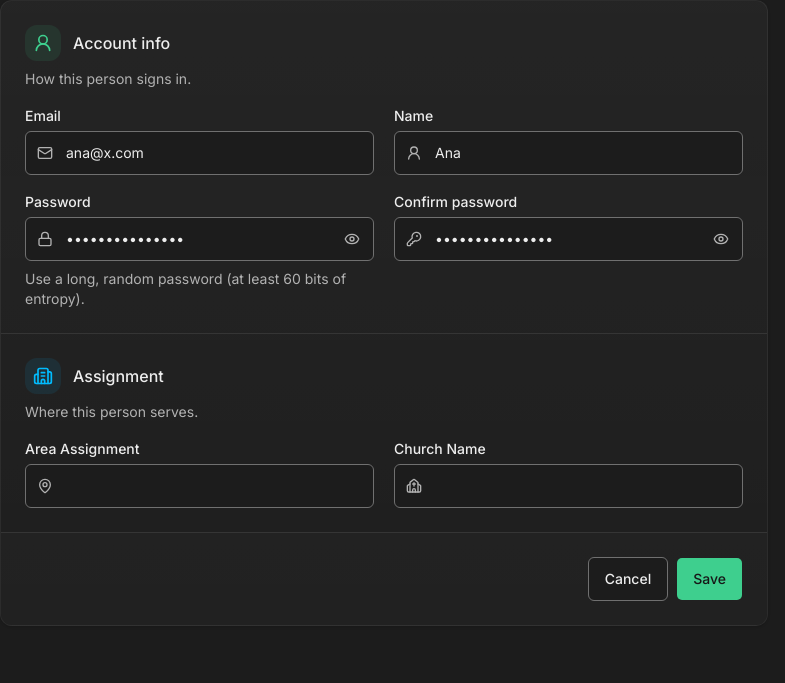
Scenario: UserForm password confirmation › a different confirmation says so and nothing is sent
This screenshot has width=785, height=683.
Type "x" into the password field labelled "Confirm password".
click(568, 239); type("x")  # box [394,217,743,261]
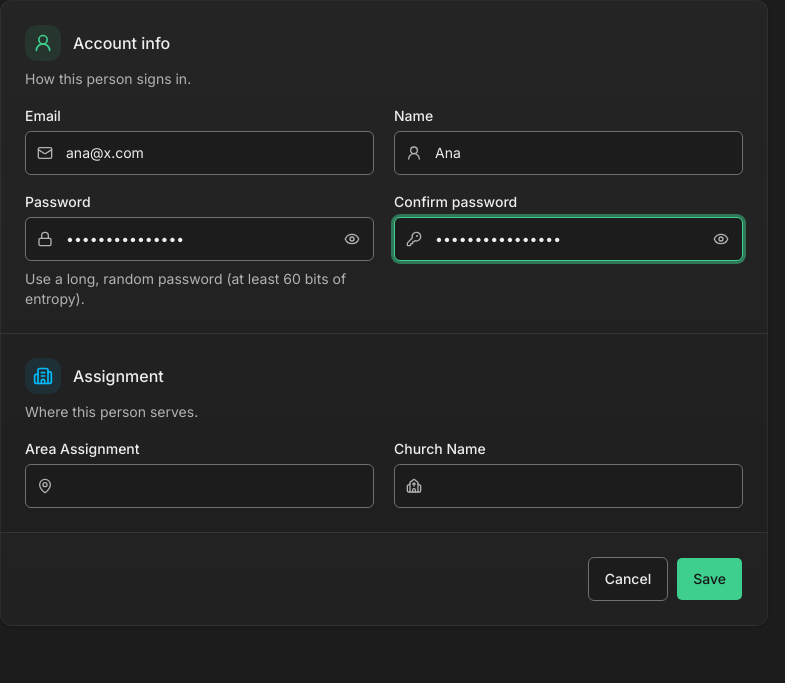
Click the button "Save".
click(710, 579)  # box [676,557,743,601]
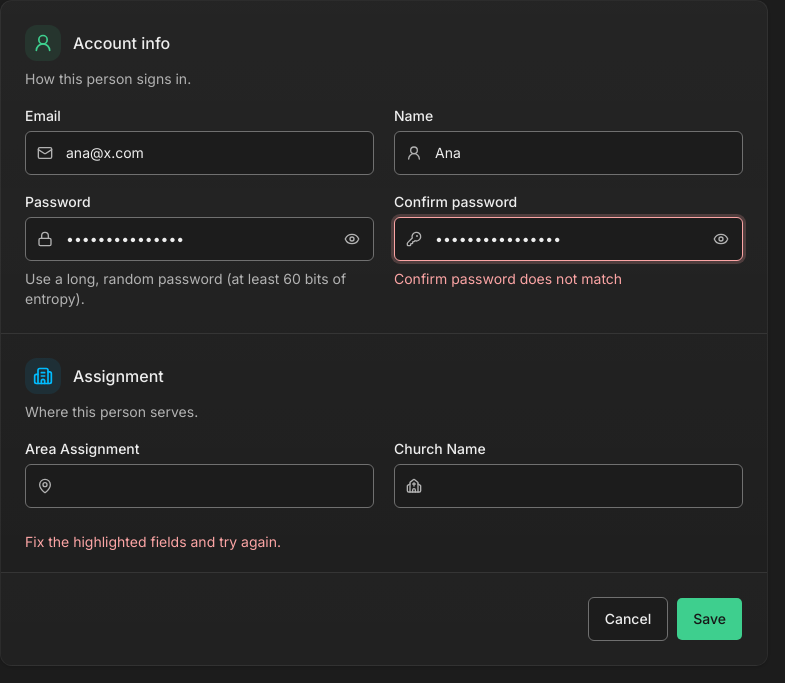
Expected: the field labelled "Name" holds "Ana", [394,131,743,175]
Now the text "Confirm password does not match" is shown, box [394,270,622,287]
